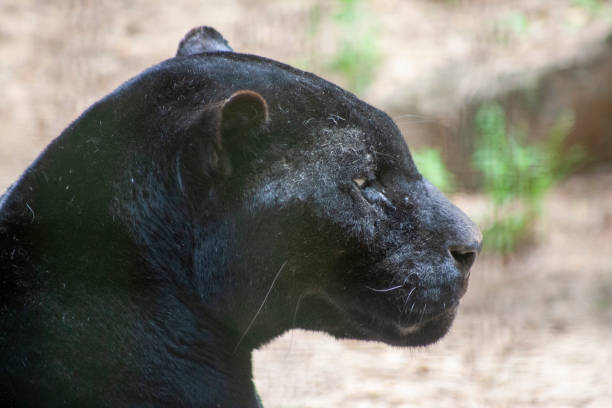panther: (99, 22, 489, 379)
